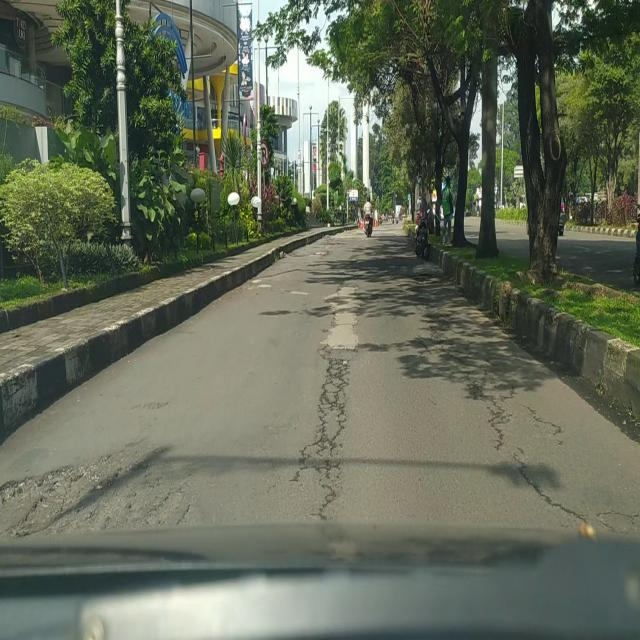Drain Hole: (486, 409, 640, 532), (0, 436, 191, 528), (296, 356, 340, 520)
